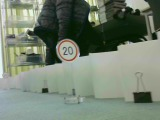speed_20: (55, 38, 81, 64)
